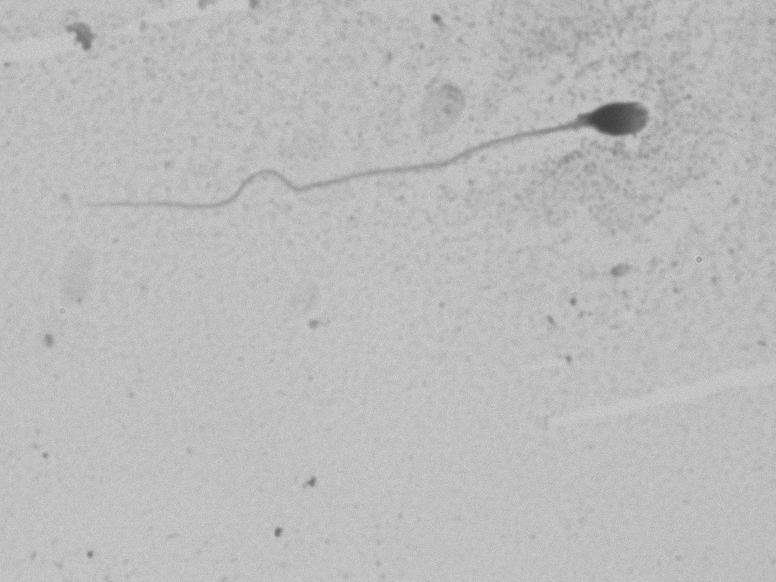Normal: (54, 71, 675, 273)
